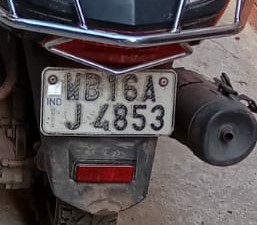plate: (38, 65, 179, 139)
